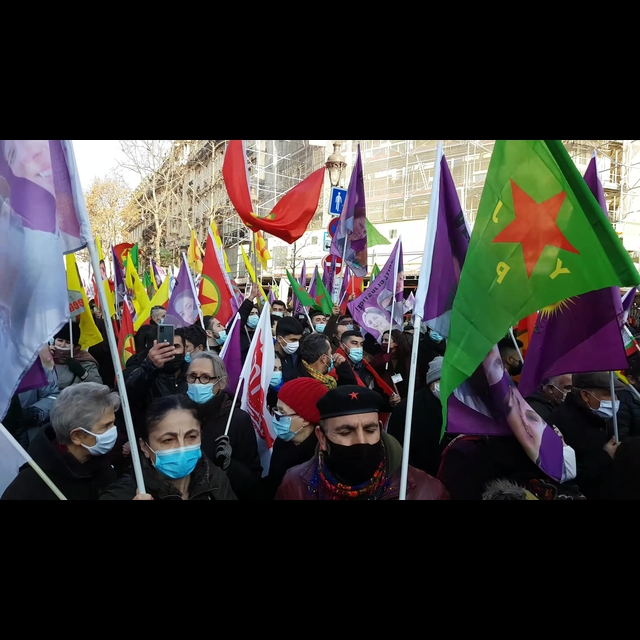YPJ: (487, 174, 579, 291)
